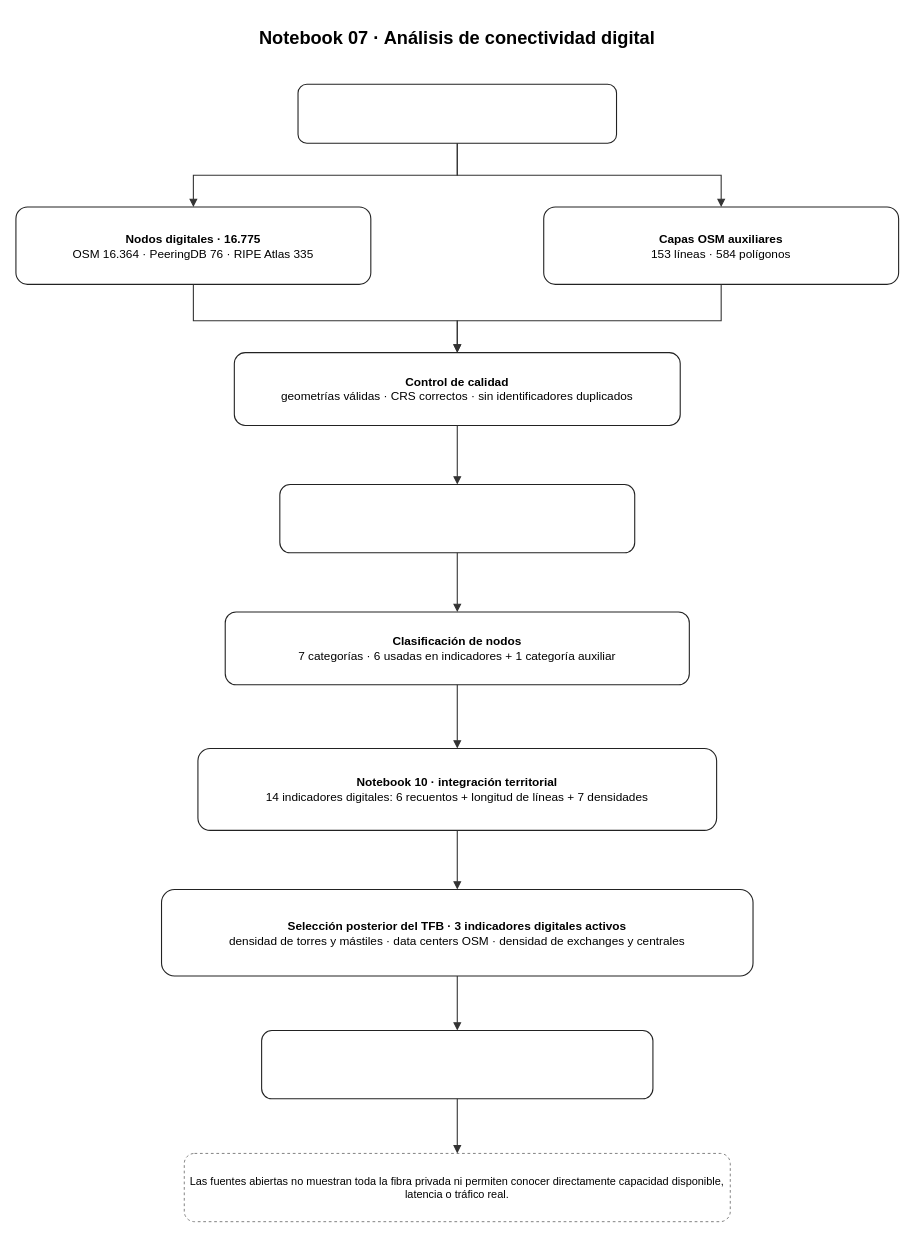
This 915x1238 diagram has some shape labels left out. Here are the shapes that lost their labels. From the top down, the box of each, then its label:
(297, 83, 617, 143): Capas finales validadas del NB07
(279, 484, 635, 553): Andorra 7 nodos · 4 OSM · 3 RIPE Atlas
(261, 1030, 653, 1099): Lectura territorial presencia observable de infraestructura digital
